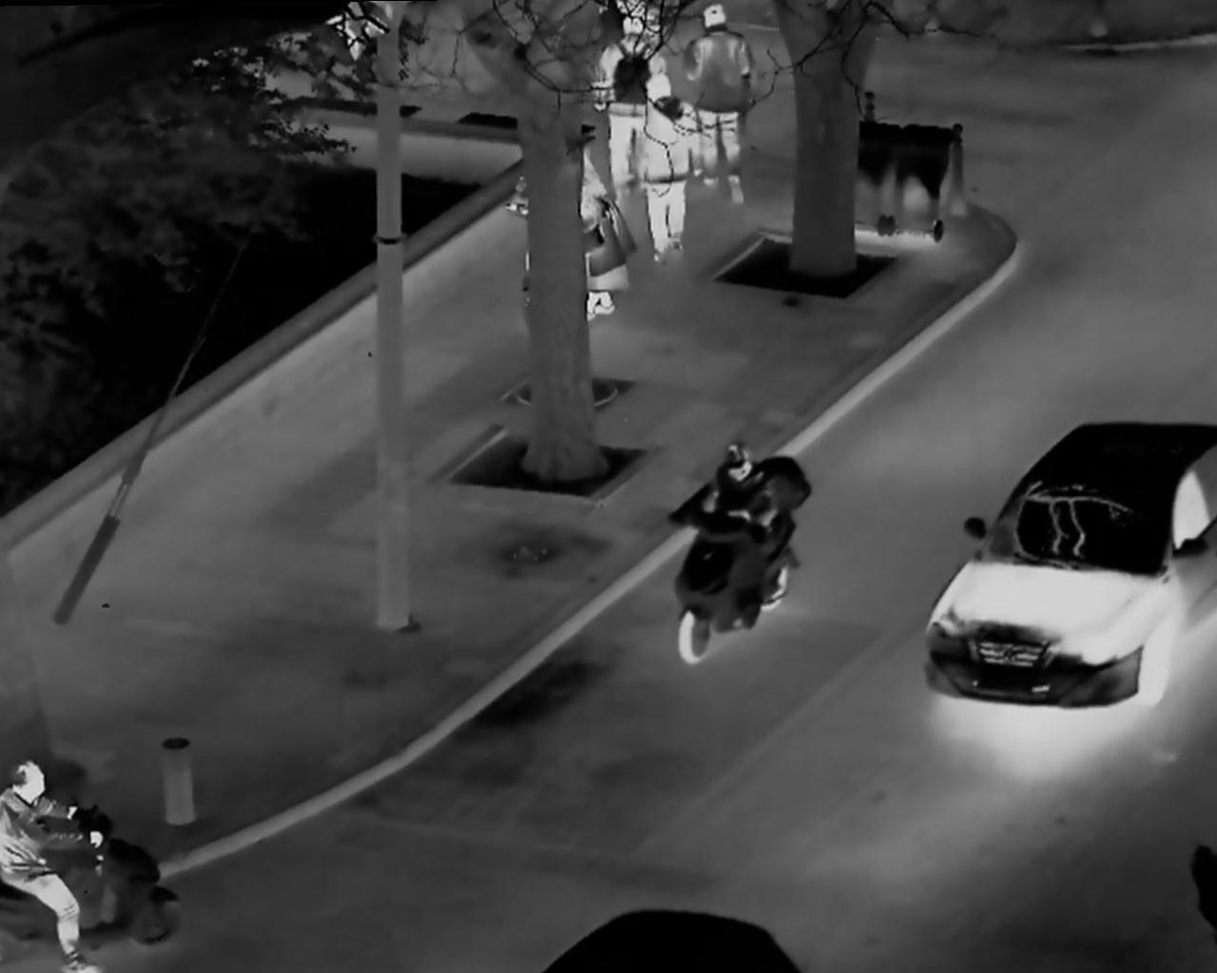person: (669, 428, 802, 667), (5, 742, 115, 969), (686, 6, 761, 214), (630, 70, 702, 275), (595, 9, 669, 201), (579, 148, 639, 325)
